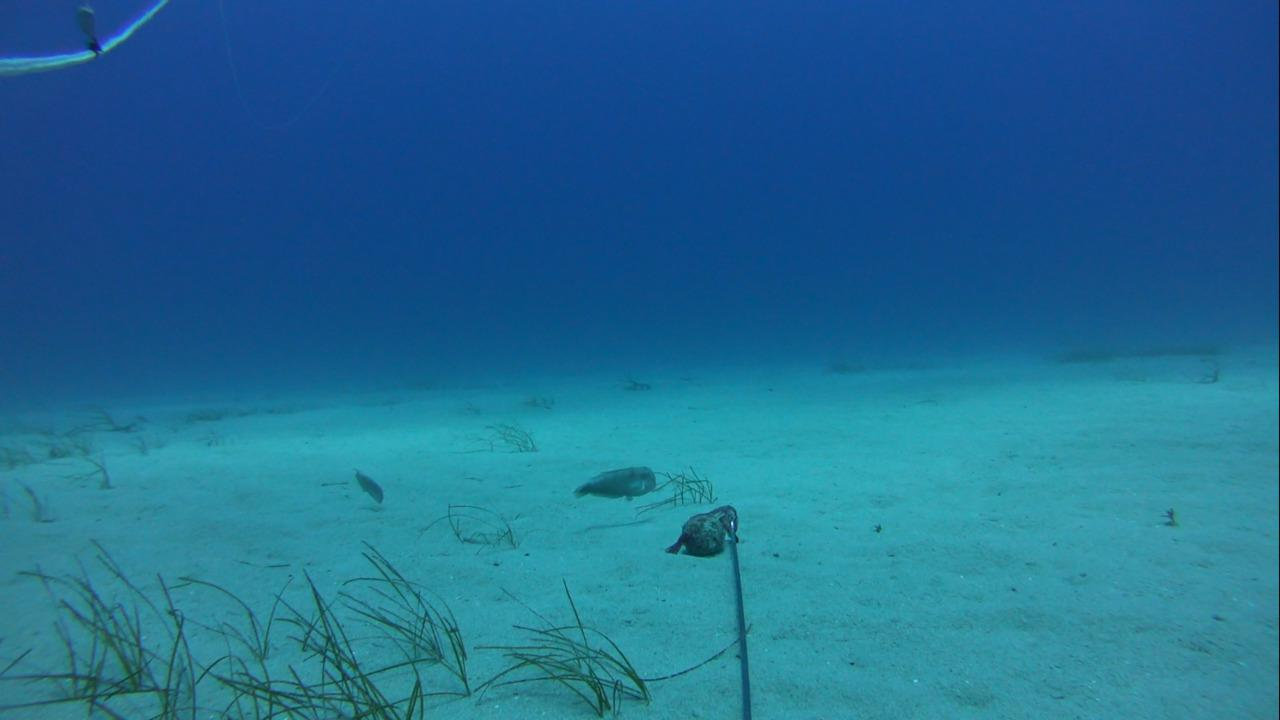raor: (563, 459, 662, 507), (345, 463, 393, 510)
